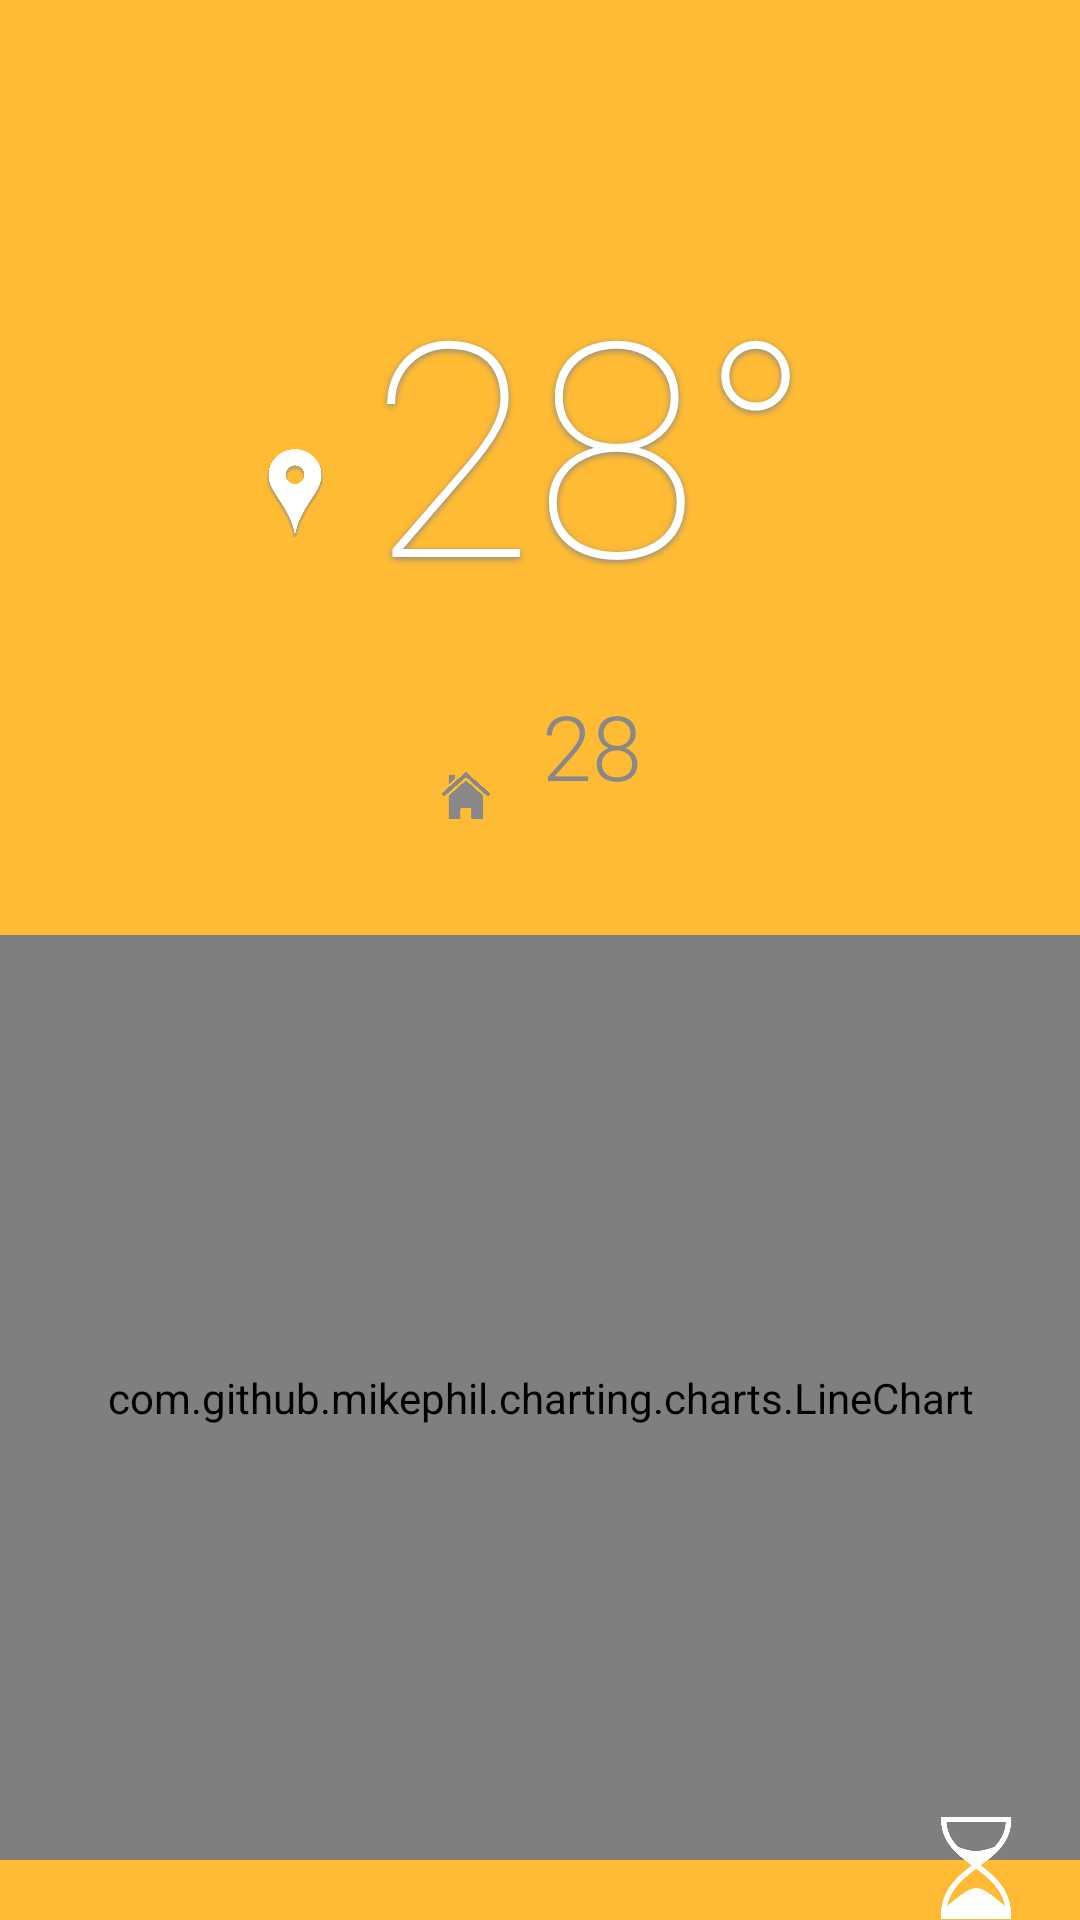

Screen size 1080*1920. Icon name, then its center in pixels as (x,y):
house: (466,795)
